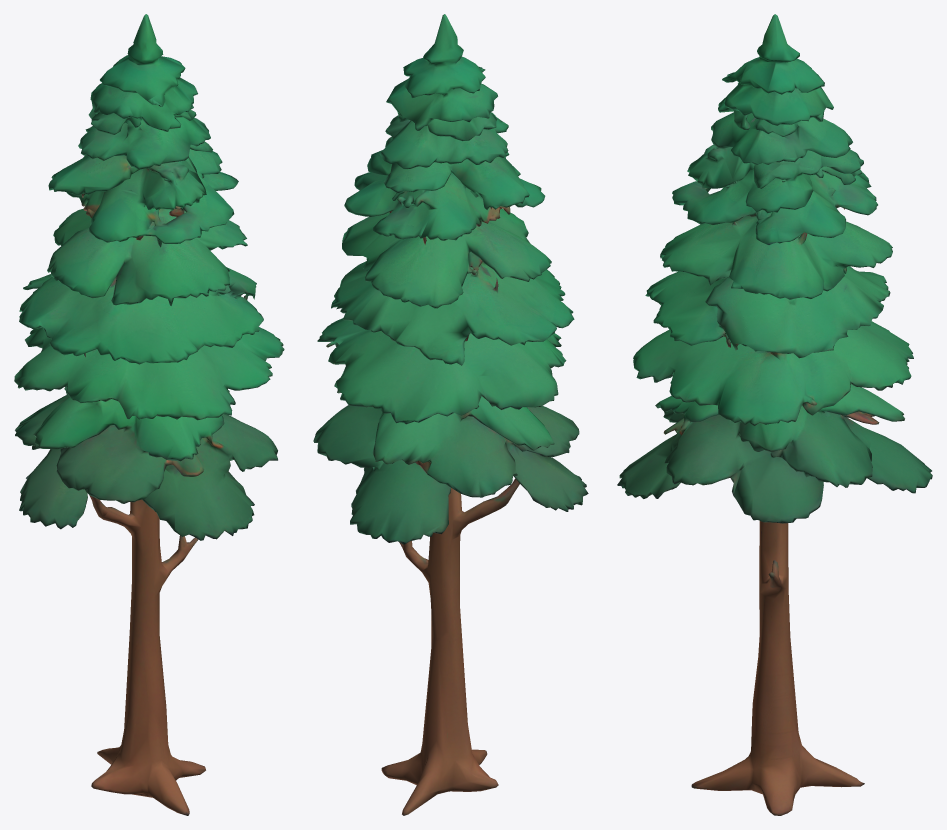
Rendered from tree_pine.glb.
3 renders of one model, left to right at view 1: azimuth 30°, elevation 25°; view 2: azimuth 150°, elevation 25°; view 3: azimuth 270°, elevation 25°, orthographic.
Size of the model in its own units: 0.68 by 2 by 0.7387.
1 material, 1 textured.
